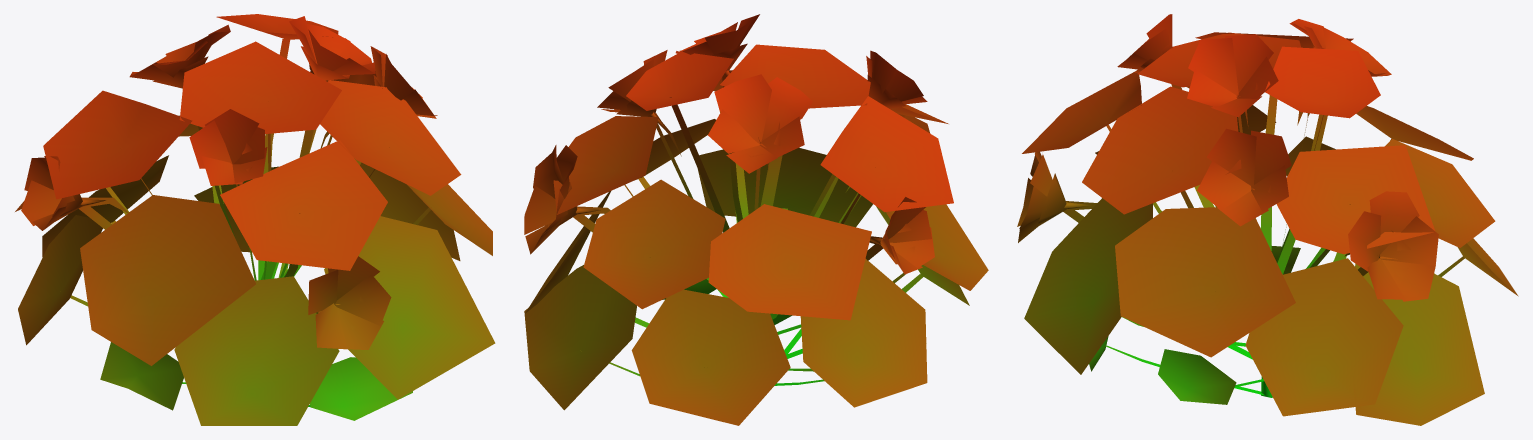
Rendered from Var6_LOD1.fbx.
3 renders of one model, left to right at view 1: azimuth 30°, elevation 25°; view 2: azimuth 150°, elevation 25°; view 3: azimuth 270°, elevation 25°, orthographic. The views are drawn at different scales.
Parts seen in each view (by area): view 1: _33fe_Var6_LOD1; view 2: _33fe_Var6_LOD1; view 3: _33fe_Var6_LOD1.
Part boxes in pixels (bbox=[...]): _33fe_Var6_LOD1: bbox=[15, 14, 495, 425]; _33fe_Var6_LOD1: bbox=[524, 14, 988, 425]; _33fe_Var6_LOD1: bbox=[1017, 14, 1518, 425].
Size of the model in its own units: 27.46 by 23.61 by 28.87.
